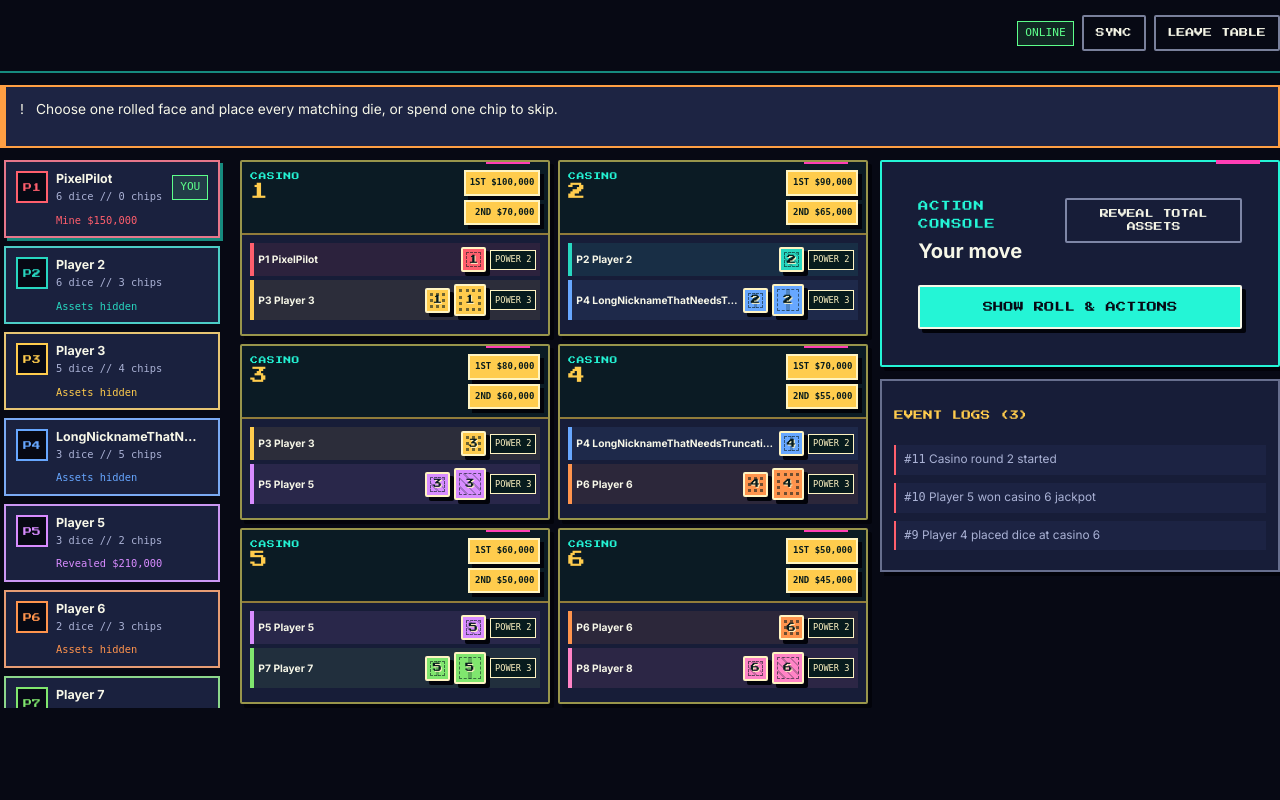
Test case: deterministic game views › hides actions outside the viewer turn and disables Skip when chips are exhausted
The width and height of the screenshot is (1280, 800).
Expected: the button "Place all 1s" is not shown
Expected: the text "Player 2 is taking their turn" is shown, top-left (36, 99), bottom-right (558, 119)
Click the button "Show roll & actions" at (1080, 307), box top-left (918, 285), bottom-right (1242, 329)
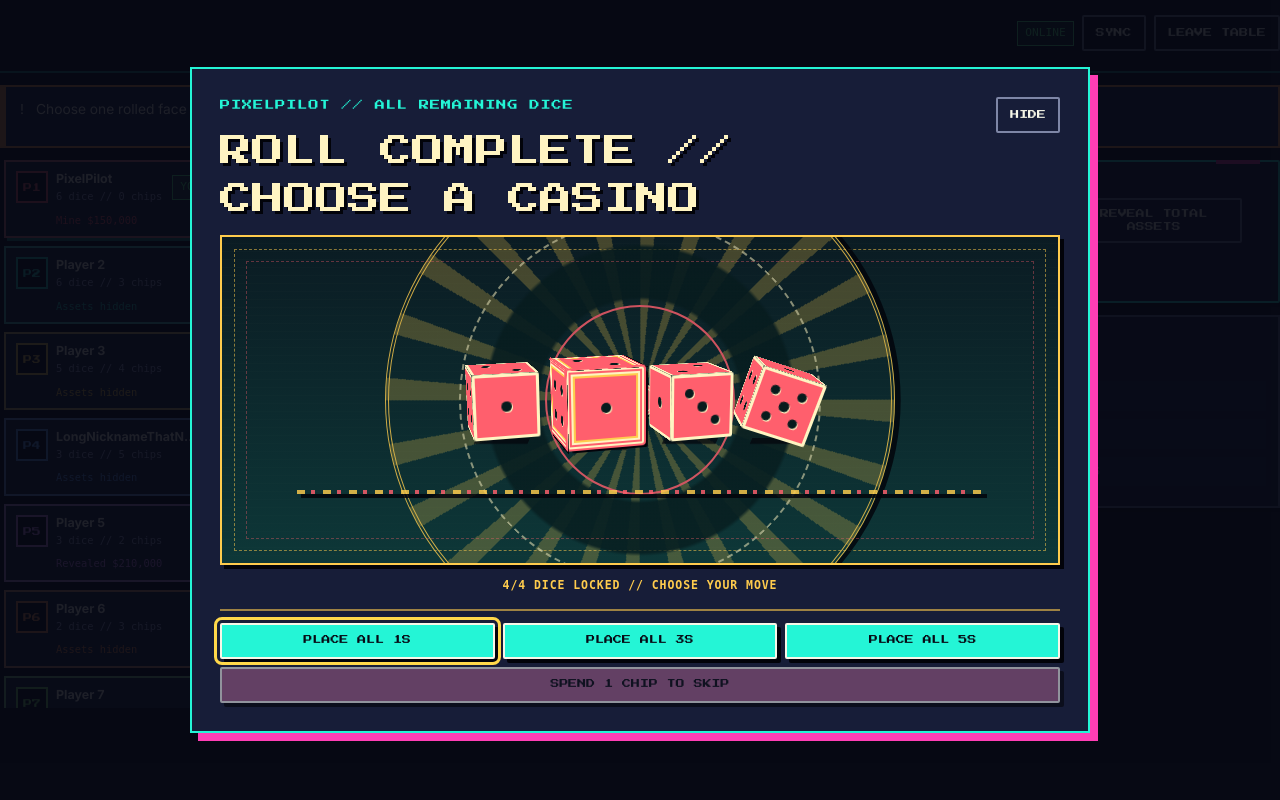
Now the button "Place all 1s" is enabled, box top-left (220, 623), bottom-right (495, 659)
Now the button "Spend 1 chip to skip" is disabled, box top-left (220, 667), bottom-right (1060, 703)
